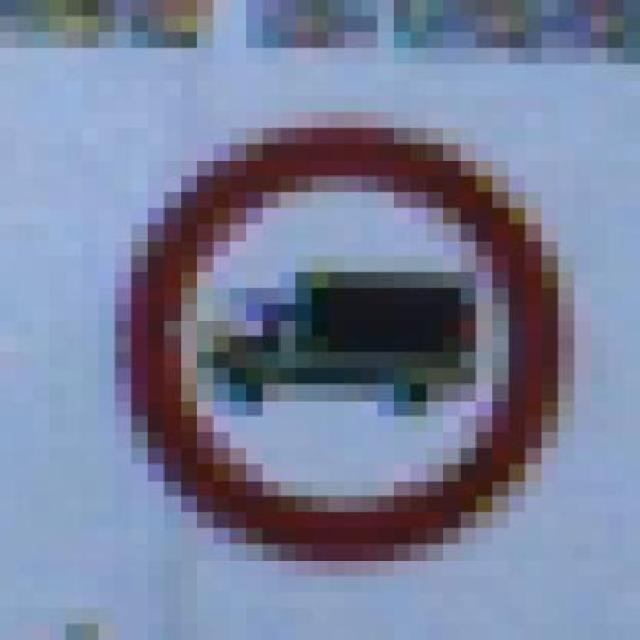Truck traffic is prohibited: (82, 112, 590, 576)
